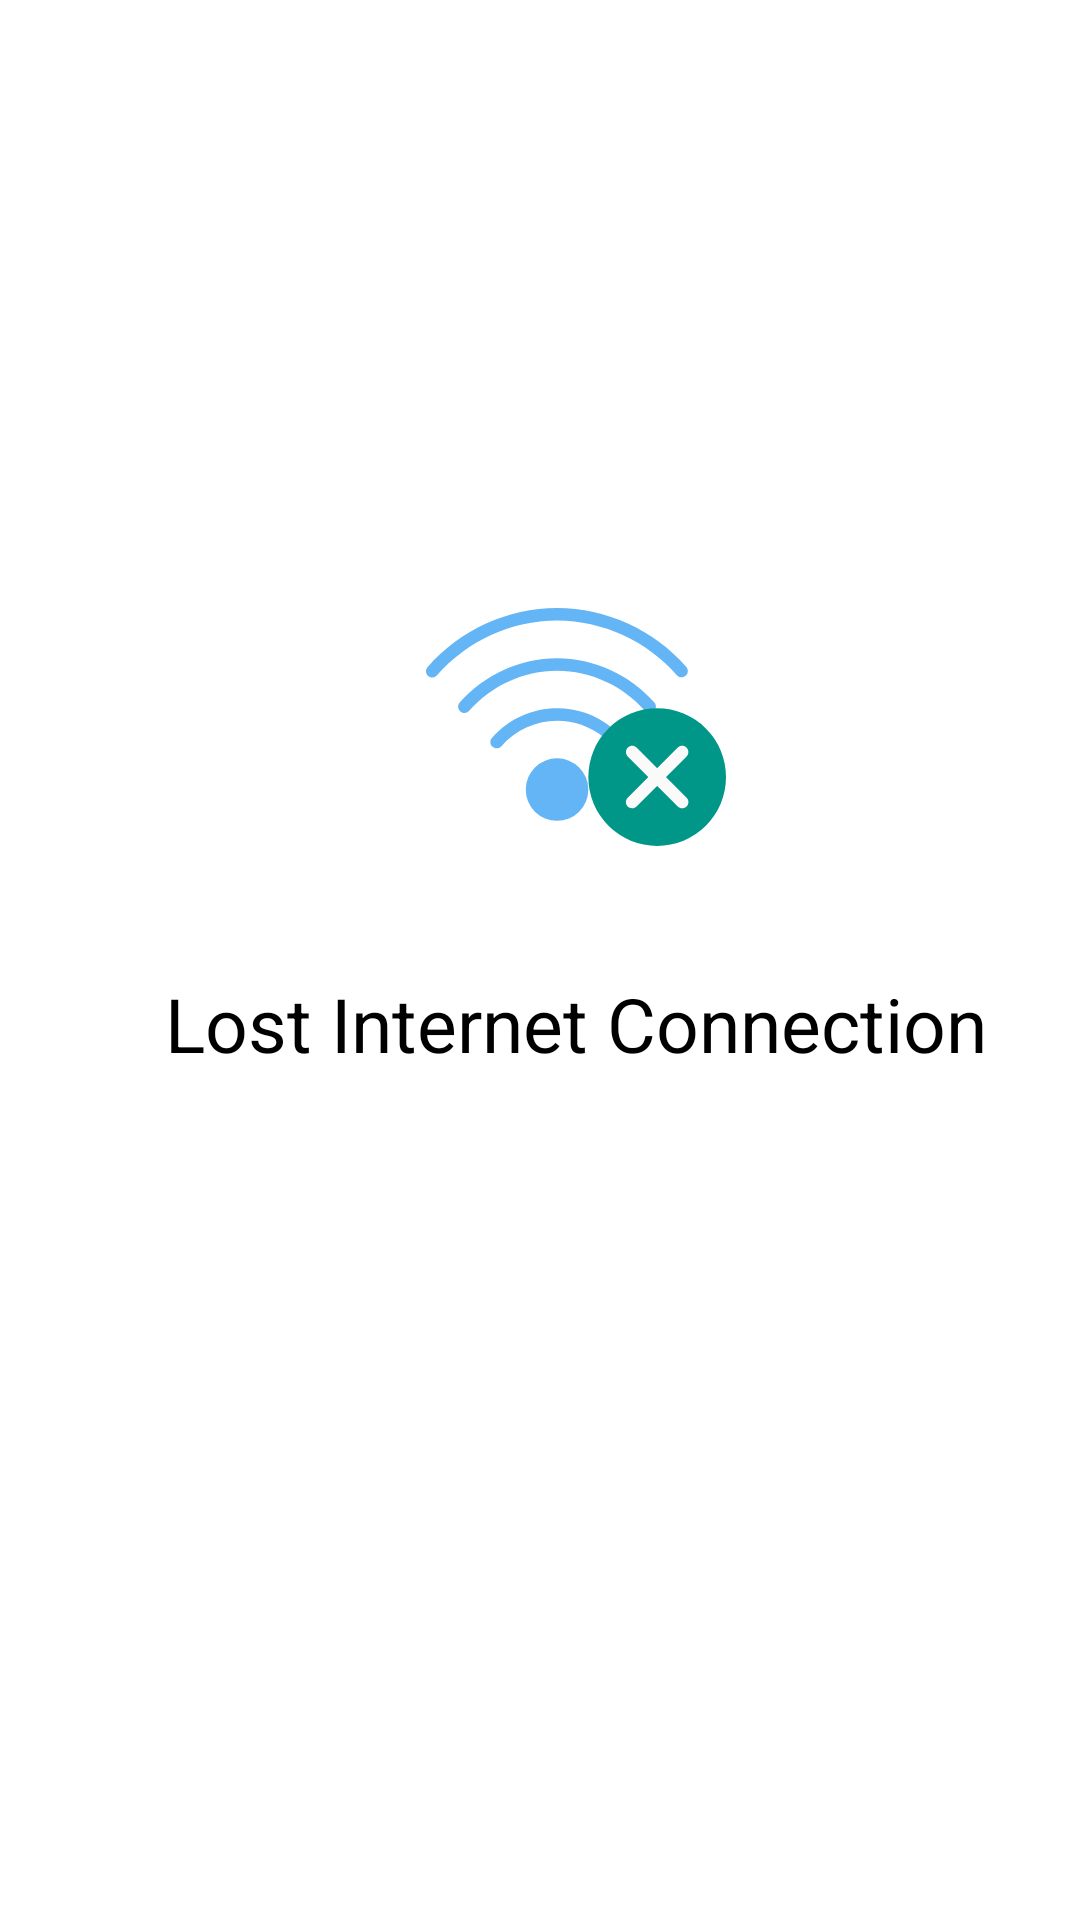

Locate icon controls on the screen. Image size 1080px x 1920px, boxes as (x1, y1, x2, y2).
No Internet Connection: (426, 608, 726, 846)
